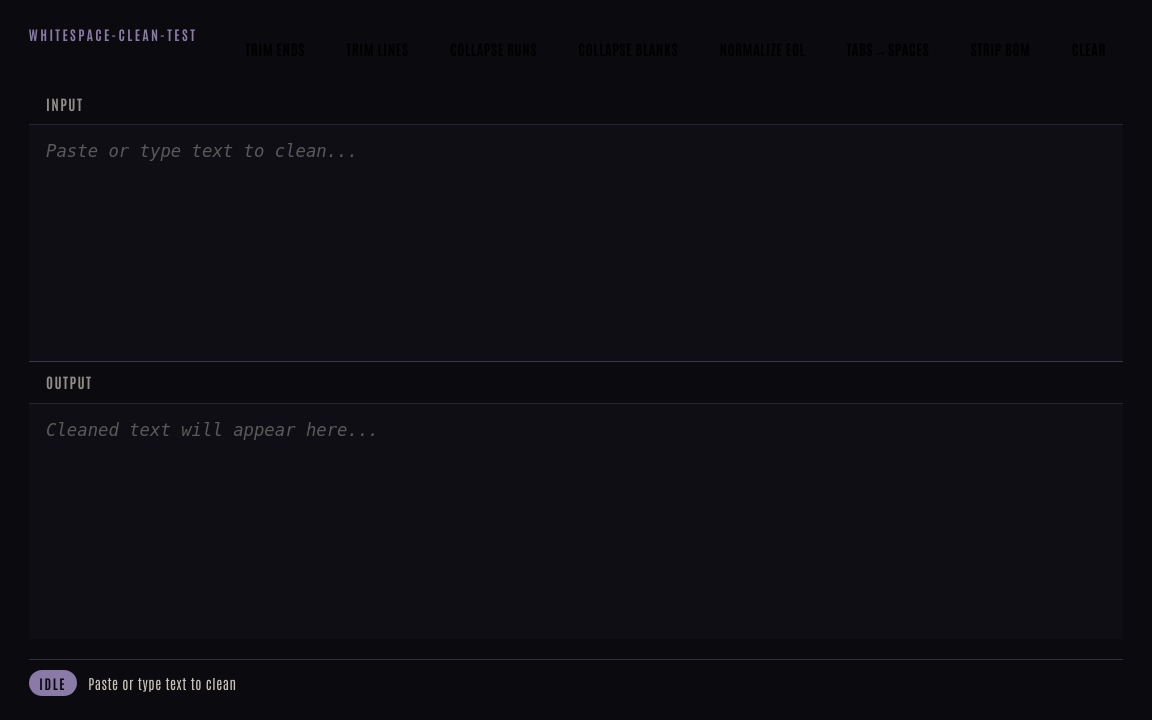
Test: WhitespaceClean › shows char/line removal count in the status detail
This screenshot has width=1152, height=720.
Type "   hello   " into the text box named "Text input for whitespace cleaning" at (576, 243), box [29,125,1123,361]
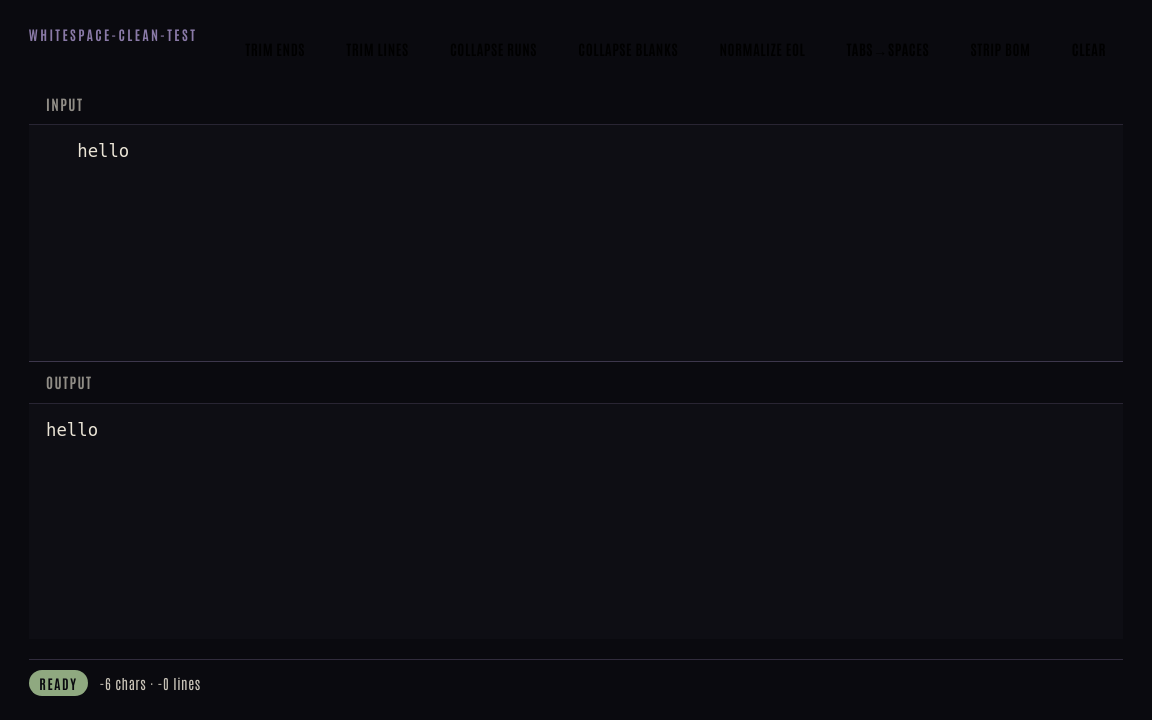
expect the text "-6 chars · -0 lines" is shown: met, box [100,673,201,693]
